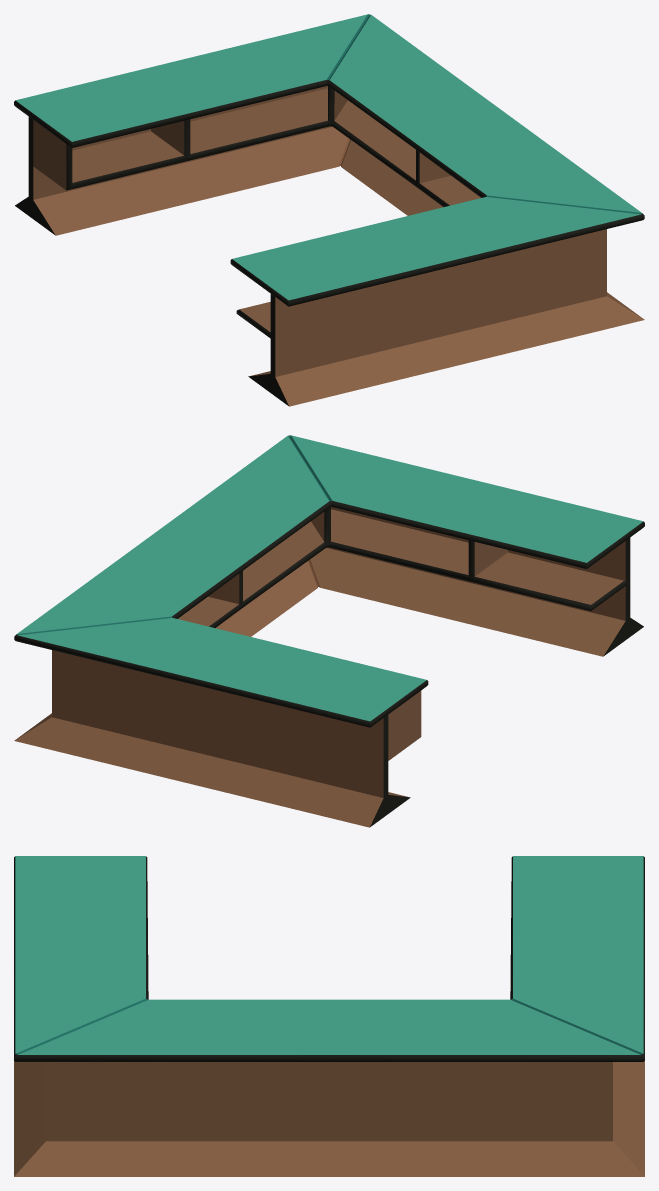
File: OT_092_green_counter.glb
3 views of the same model, one above another, from view 1: azimuth 30°, elevation 25°; view 2: azimuth 150°, elevation 25°; view 3: azimuth 270°, elevation 25° (orthographic). The views are drawn at different scales.
Parts seen in each view (by area): view 1: counter; view 2: counter; view 3: counter.
Part boxes in pixels (left/top/right/bottom): counter: left=14, top=14, right=644, bottom=406; counter: left=14, top=435, right=644, bottom=827; counter: left=14, top=856, right=644, bottom=1176.
Size of the model in its own units: 4.51 by 1.27 by 6.
